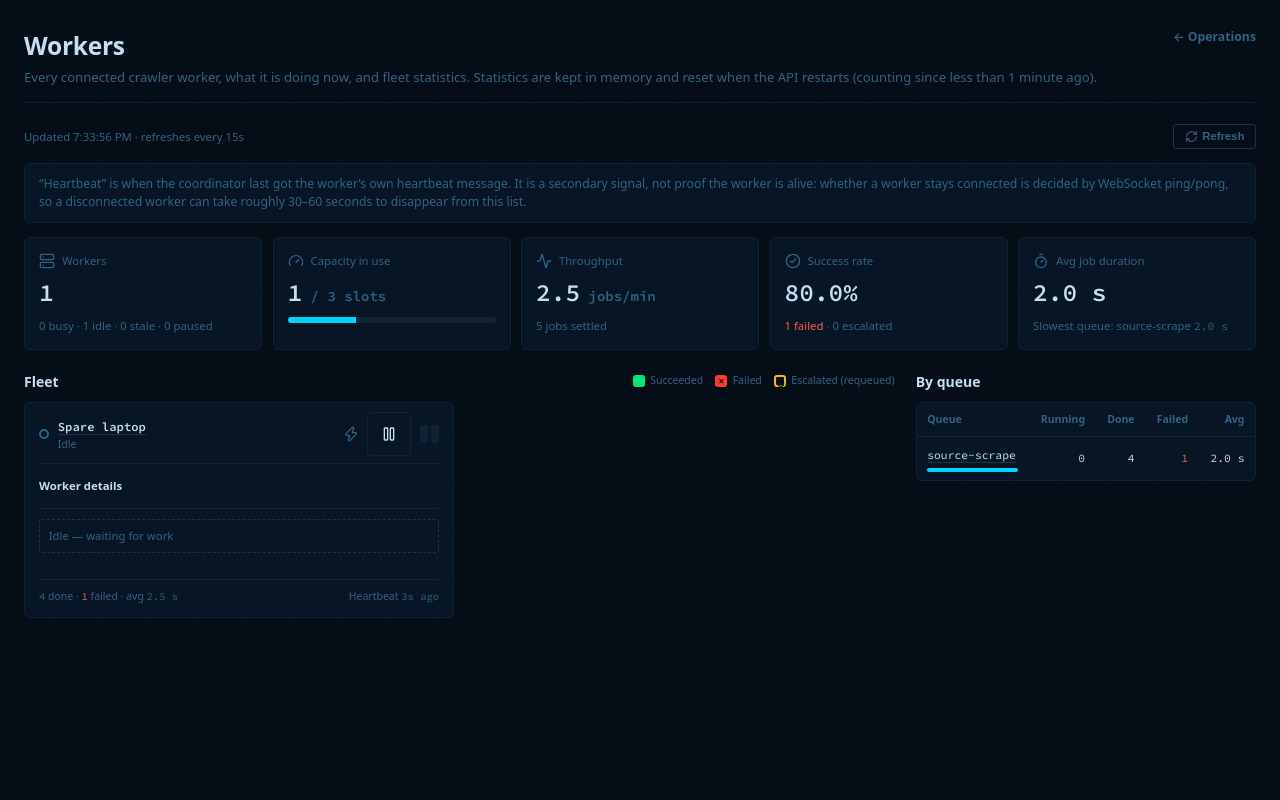
Test: WorkersClient › pauses a worker via the API and shows the paused state
The image size is (1280, 800).
Click the button named "Pause Spare laptop": (389, 434) x1=367 y1=412 x2=411 y2=456
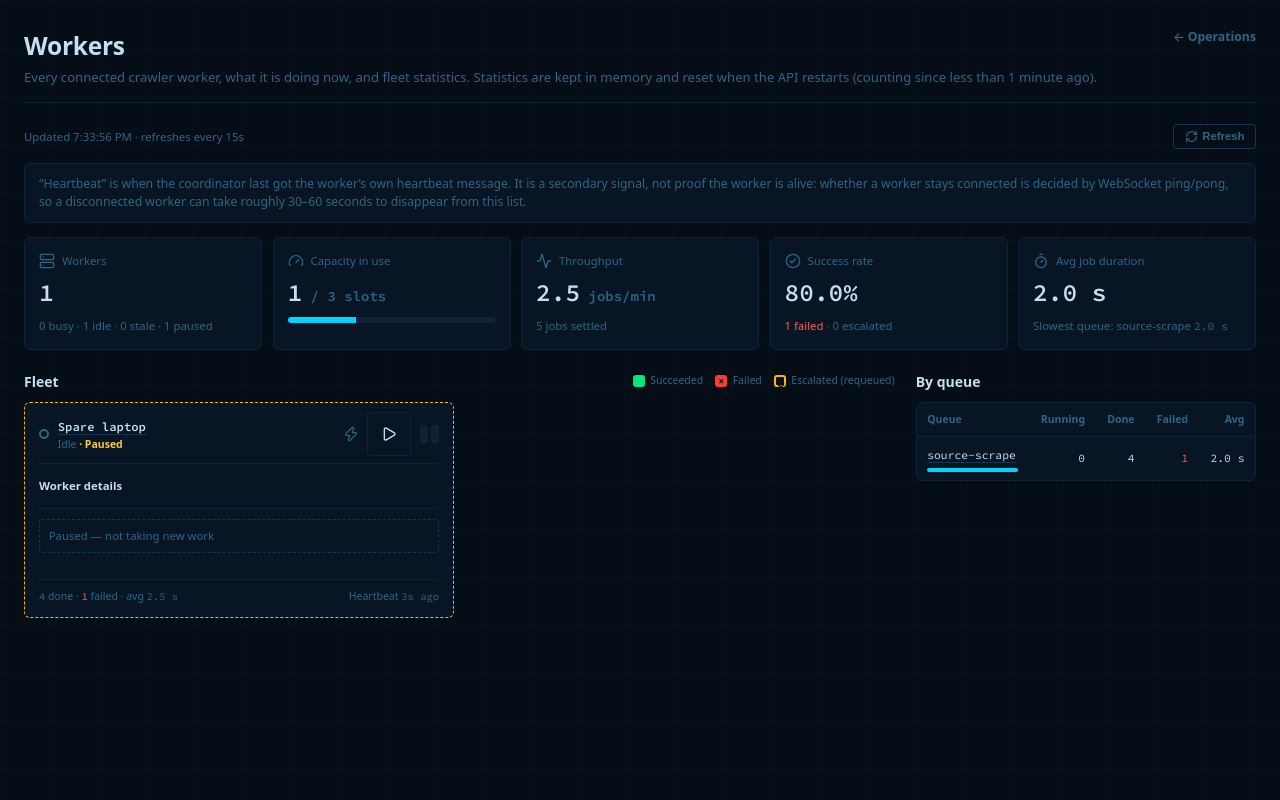
Expected: the button named "Resume Spare laptop" is shown, x1=367 y1=412 x2=411 y2=456
Expected: the text "· Paused" is shown, x1=76 y1=437 x2=123 y2=451
Expected: the text "Paused — not taking new work" is shown, x1=39 y1=519 x2=439 y2=552
